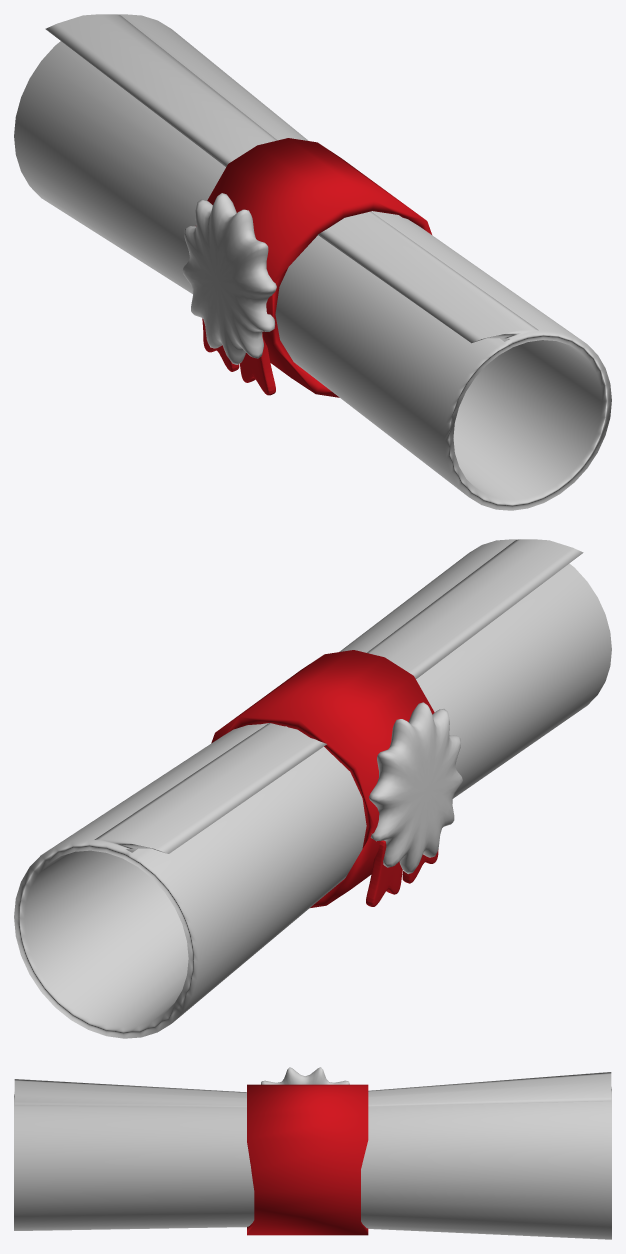
The model's file is diploma.obj.
3 renders of one model, top to bottom at view 1: azimuth 30°, elevation 25°; view 2: azimuth 150°, elevation 25°; view 3: azimuth 270°, elevation 25°, orthographic. The views are drawn at different scales.
Visible parts, largest first — view 1: Cube, Plane, Star; view 2: Cube, Plane, Star; view 3: Cube, Plane, Star.
Boxes of the visible parts, left/top/right/bottom form: Cube: left=14, top=14, right=611, bottom=510; Plane: left=202, top=138, right=431, bottom=397; Star: left=182, top=193, right=276, bottom=364; Cube: left=14, top=539, right=611, bottom=1038; Plane: left=211, top=650, right=438, bottom=907; Star: left=369, top=702, right=462, bottom=873; Cube: left=14, top=1072, right=611, bottom=1239; Plane: left=247, top=1084, right=368, bottom=1235; Star: left=261, top=1067, right=349, bottom=1084.
Size of the model in its own units: 1.4 by 1.35 by 5.13.
